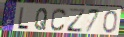7: (86, 8, 102, 34)
C: (50, 7, 68, 32)
L: (16, 6, 30, 31)
O: (102, 10, 118, 34)
Q: (33, 7, 49, 31)
Z: (66, 8, 86, 34)
